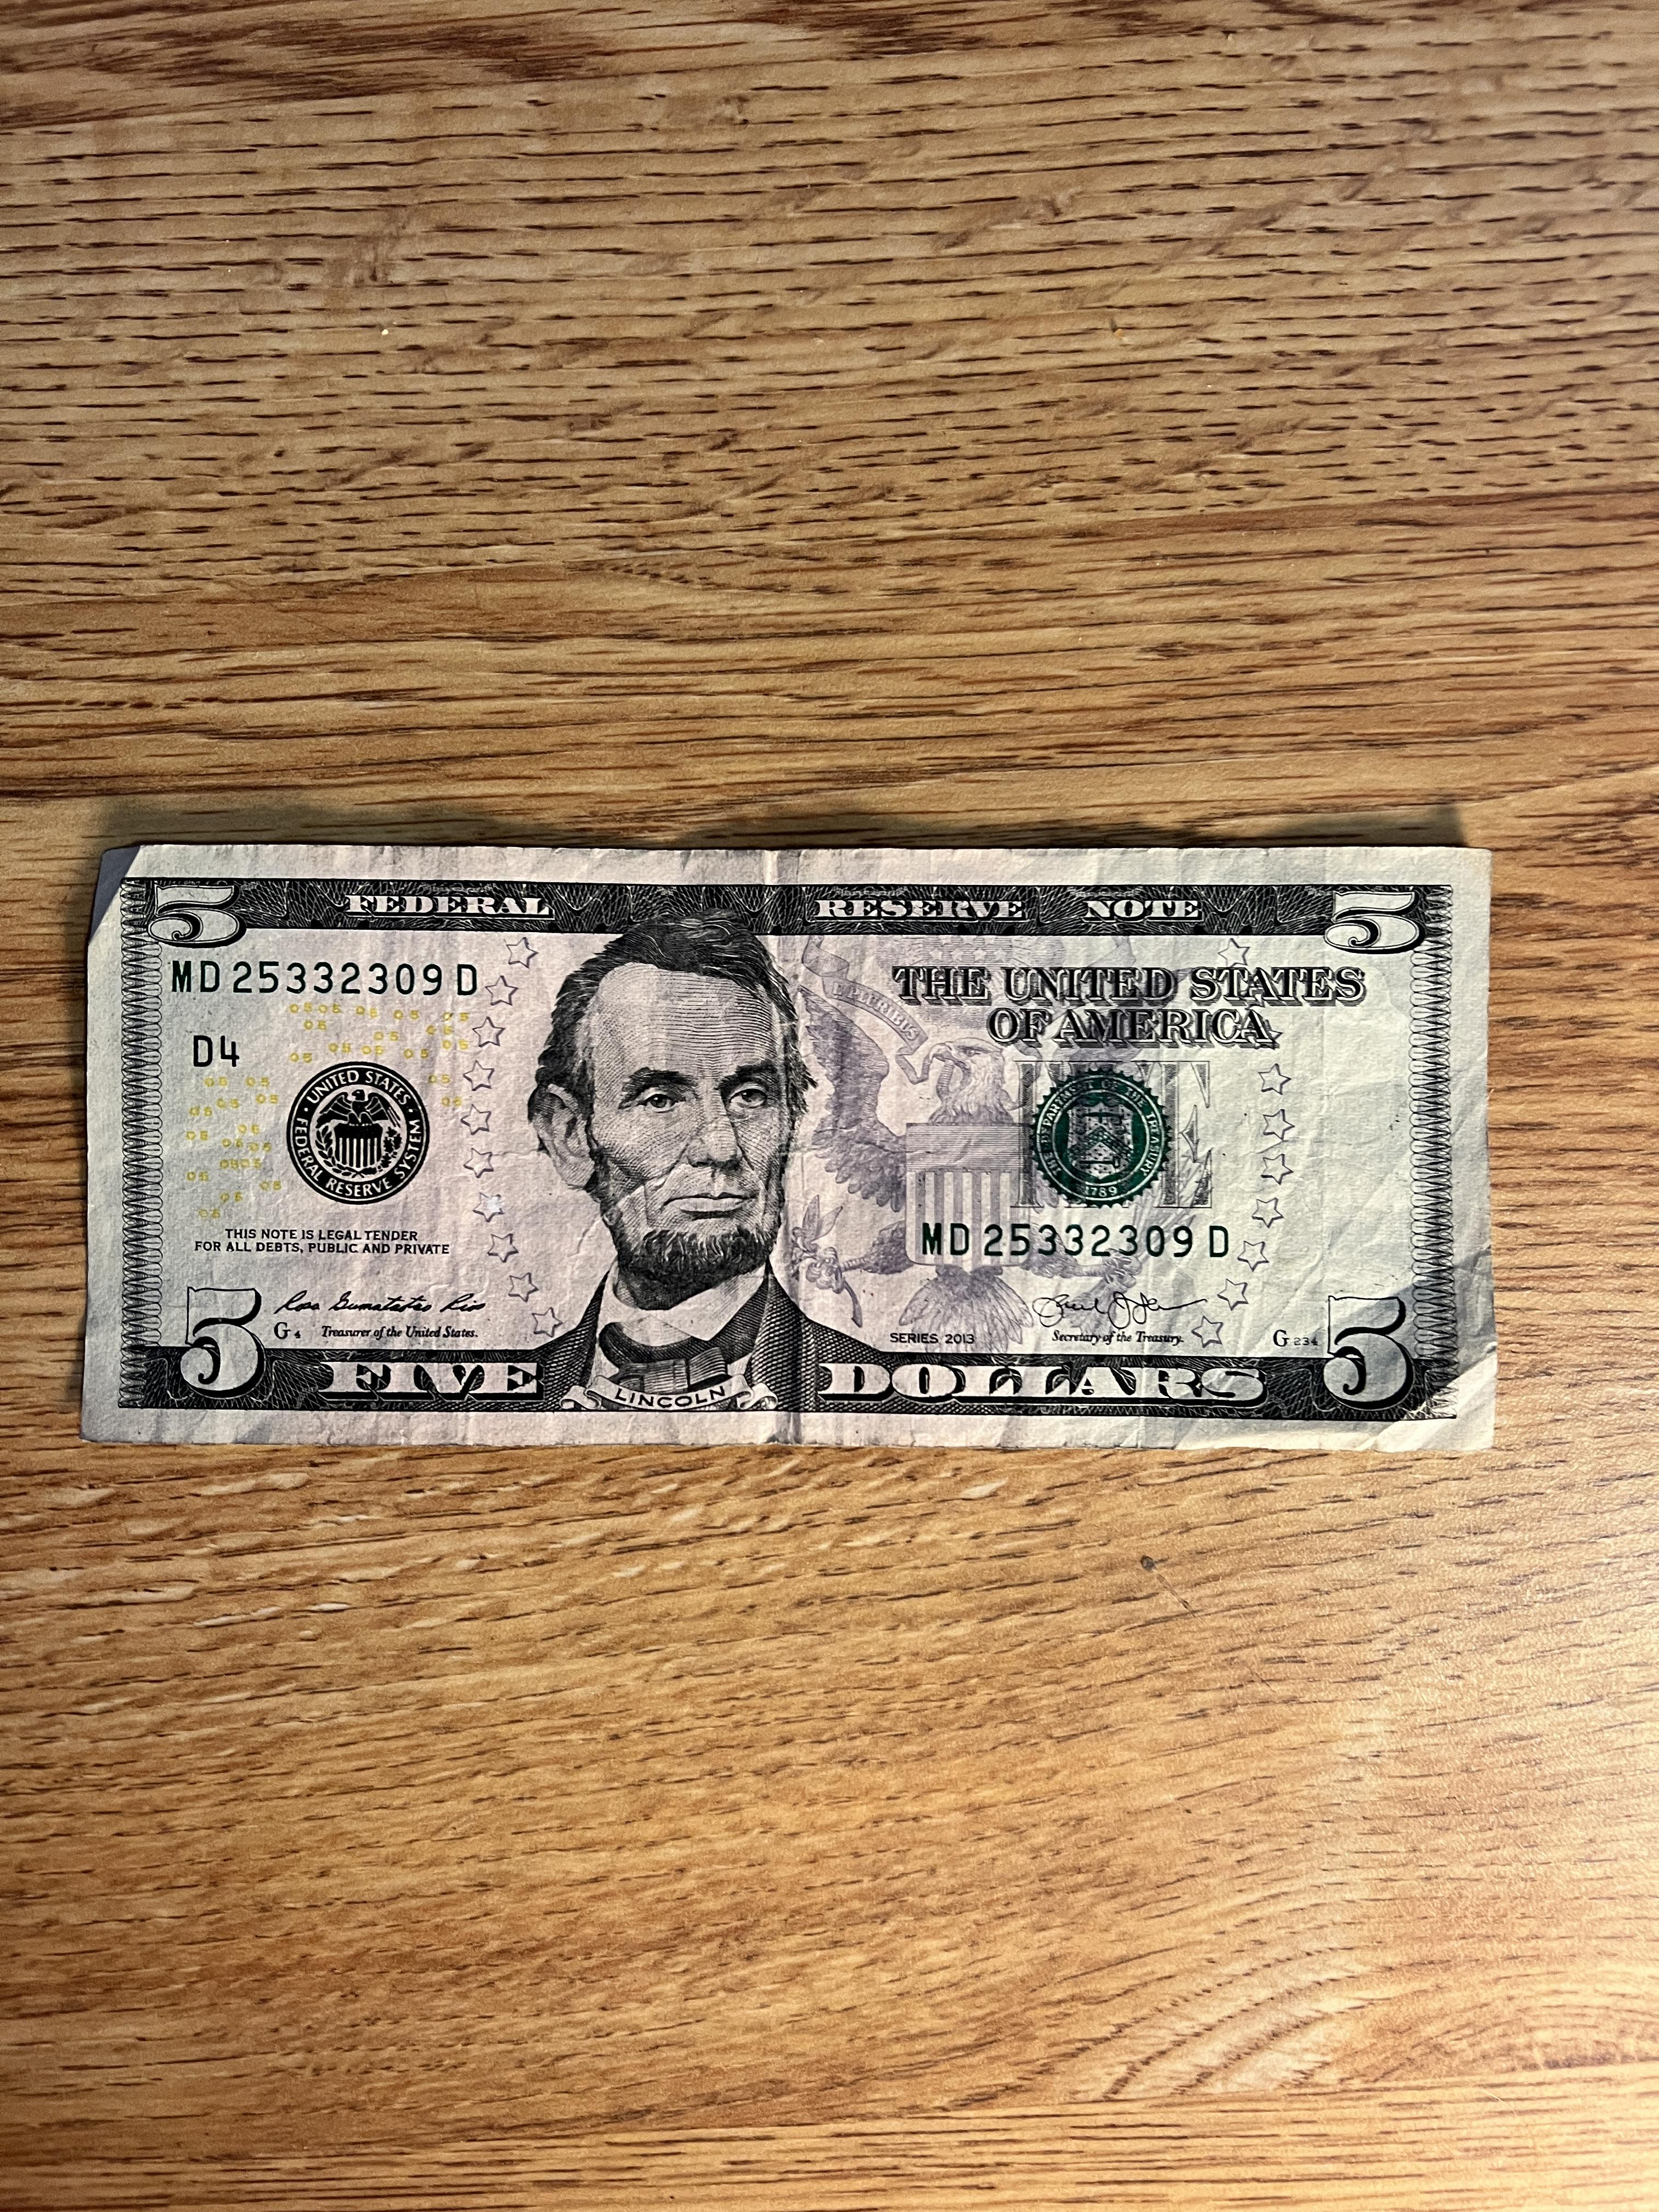FiveBill: (75, 853, 1476, 1444)
